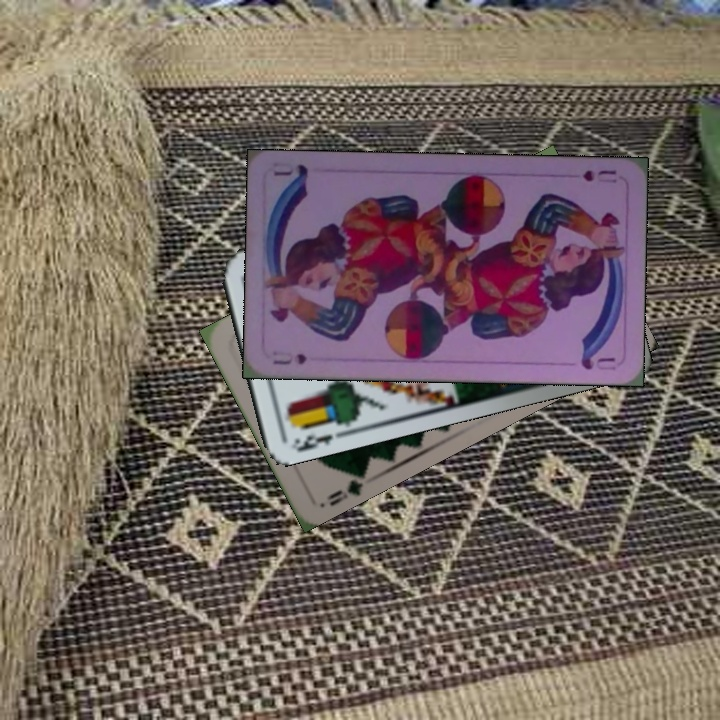EK: (287, 430, 336, 454)
G9: (322, 467, 369, 509)
SU: (268, 347, 309, 368), (579, 166, 619, 186)
